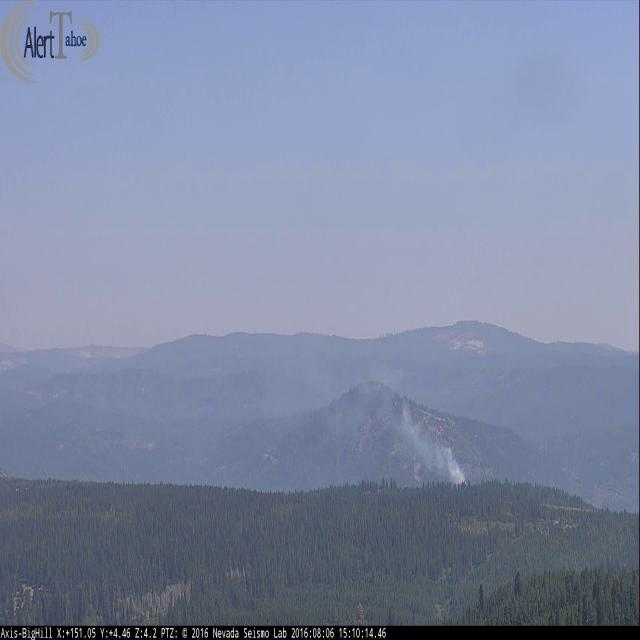smoke: (320, 372, 468, 486)
